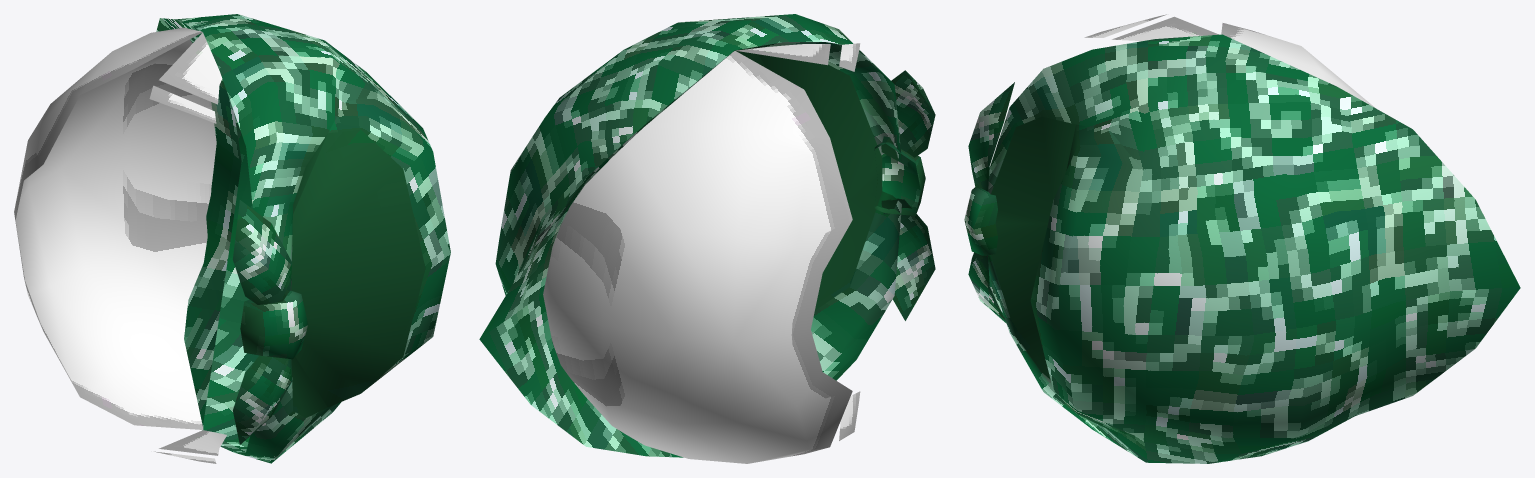
The model's file is hlmt_wraphead.dae.
The picture shows the model from 3 angles, left to right: view 1: azimuth 30°, elevation 25°; view 2: azimuth 150°, elevation 25°; view 3: azimuth 270°, elevation 25°; orthographic projection. The views are drawn at different scales.
Parts seen in each view (by area): view 1: hlmt_wraphead; view 2: hlmt_wraphead; view 3: hlmt_wraphead.
Part boxes in pixels (bbox=[...]): hlmt_wraphead: bbox=[14, 14, 450, 463]; hlmt_wraphead: bbox=[479, 14, 935, 463]; hlmt_wraphead: bbox=[964, 14, 1520, 463].
Bounding box in the file's own units: 20 × 22.52 × 28.01.
Materials: 2 (2 with a texture image).
